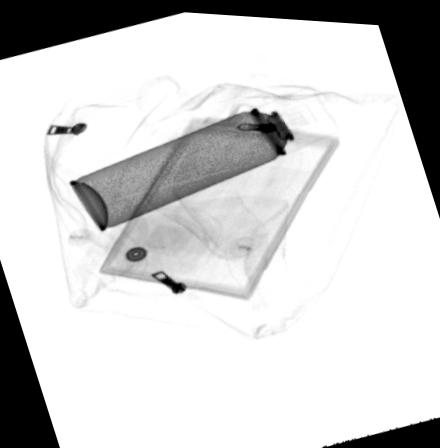Sprayer: (67, 80, 342, 232)
